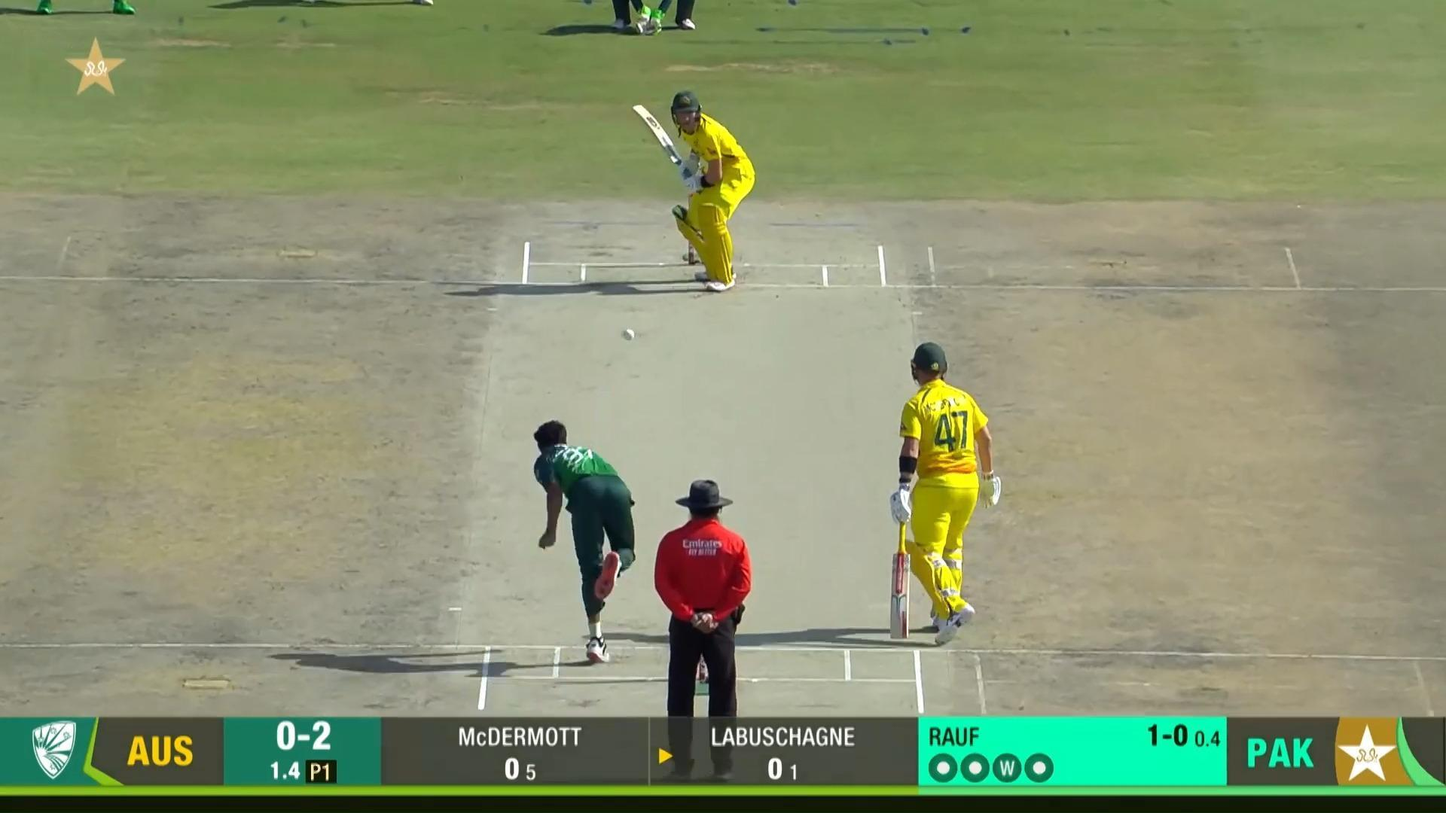BM 1: (630, 89, 758, 294)
BO: (533, 419, 638, 662)
